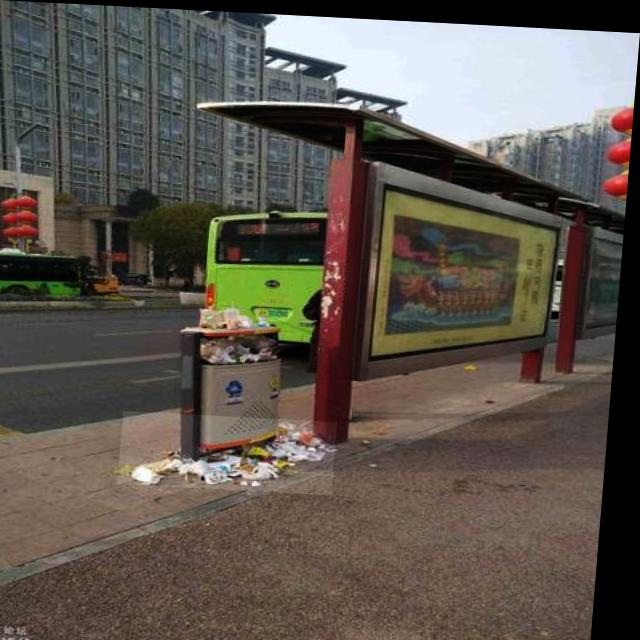garbage: (125, 409, 344, 491)
overflow: (176, 303, 293, 458)
